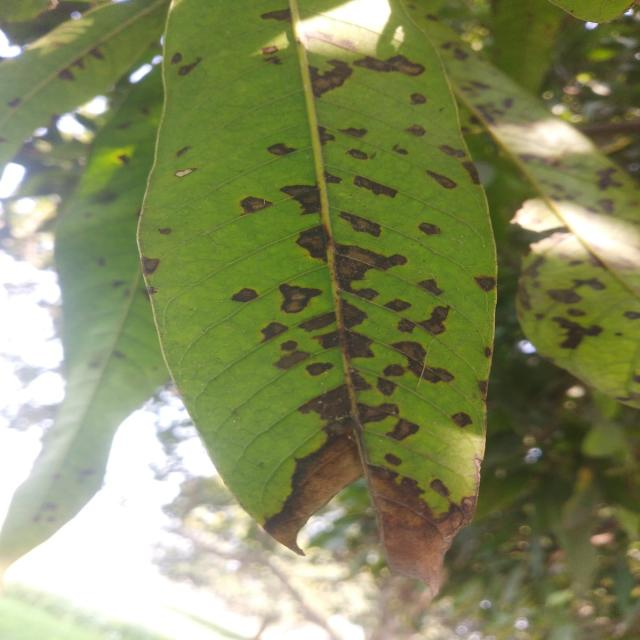Anthracnose: (259, 374, 385, 564), (324, 240, 408, 306), (385, 329, 456, 399), (220, 176, 277, 231), (305, 54, 358, 100), (352, 50, 426, 77), (274, 282, 323, 319), (335, 206, 384, 243), (417, 300, 460, 341), (551, 316, 603, 349), (351, 171, 398, 203), (222, 278, 261, 316), (294, 222, 329, 262), (280, 184, 321, 216), (254, 315, 289, 347), (422, 168, 460, 193), (416, 272, 447, 302), (265, 137, 298, 164), (175, 55, 206, 78), (305, 357, 334, 379), (260, 6, 291, 22), (345, 146, 371, 163), (337, 125, 368, 139), (474, 274, 496, 292), (418, 222, 441, 235)
